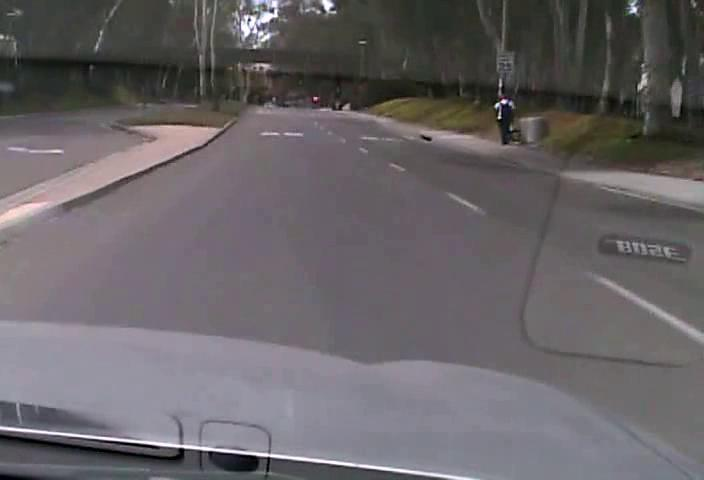speedLimit25: (495, 48, 515, 74)
